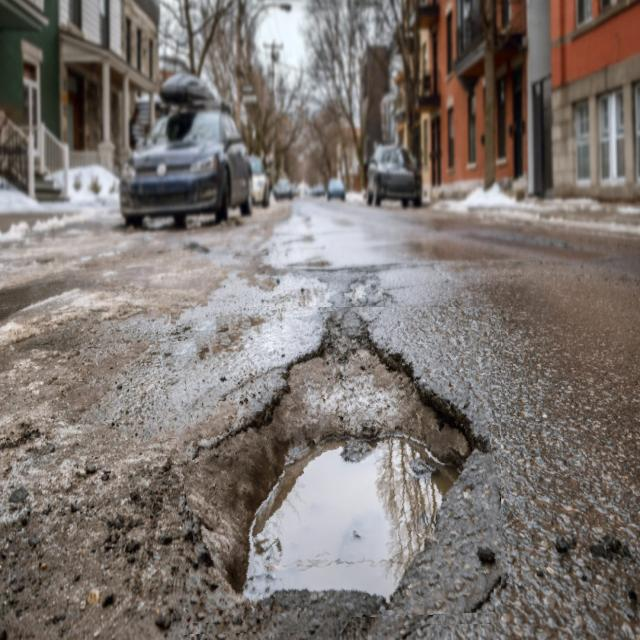Pothole: (172, 307, 502, 635)
